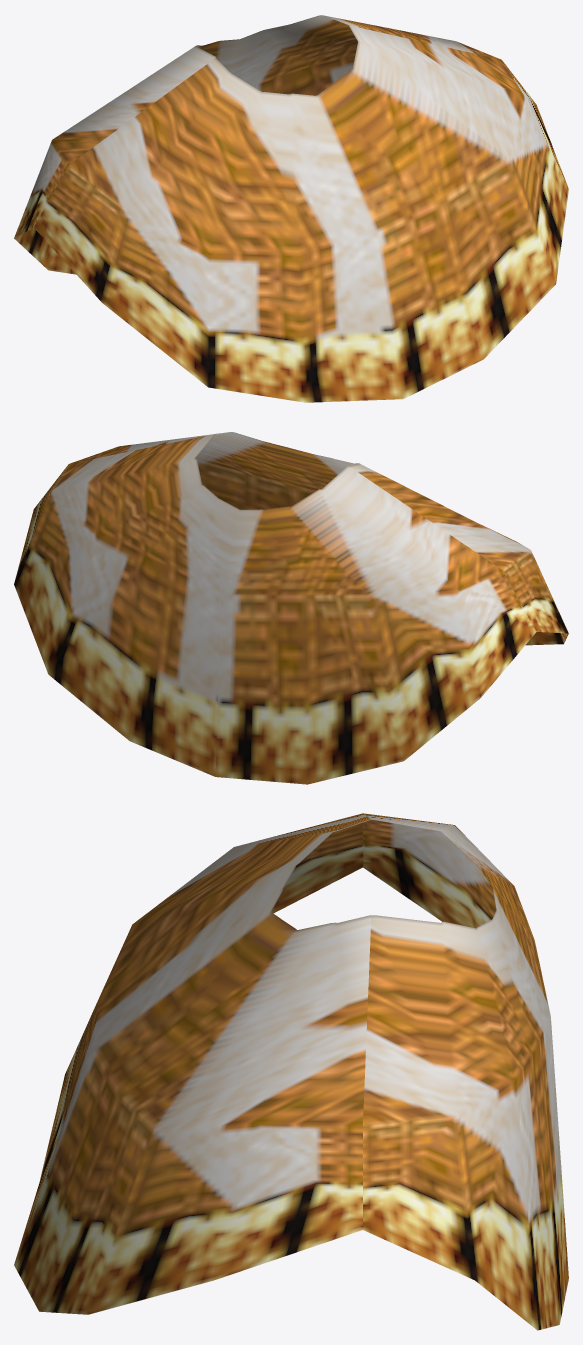
The model's file is moch_peitoral_1.dae.
The picture shows the model from 3 angles, top to bottom: view 1: azimuth 30°, elevation 25°; view 2: azimuth 150°, elevation 25°; view 3: azimuth 270°, elevation 25°; orthographic projection. The views are drawn at different scales.
Parts seen in each view (by area): view 1: moch_peitoral_1; view 2: moch_peitoral_1; view 3: moch_peitoral_1.
Part boxes in pixels (x1=…): moch_peitoral_1: x1=14, y1=15, x2=568, y2=402; moch_peitoral_1: x1=14, y1=432, x2=568, y2=784; moch_peitoral_1: x1=14, y1=813, x2=568, y2=1330.
Size of the model in its own units: 1.26 by 0.8164 by 0.673.
